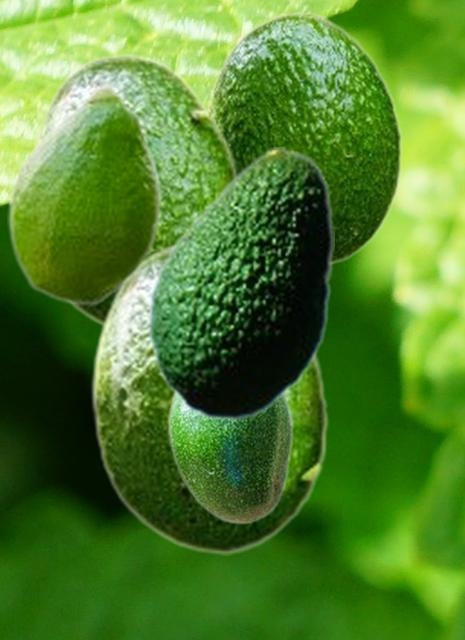avocado: (89, 242, 328, 554), (29, 54, 240, 329), (147, 147, 333, 420), (205, 11, 402, 267), (7, 77, 161, 305), (166, 392, 292, 524)
